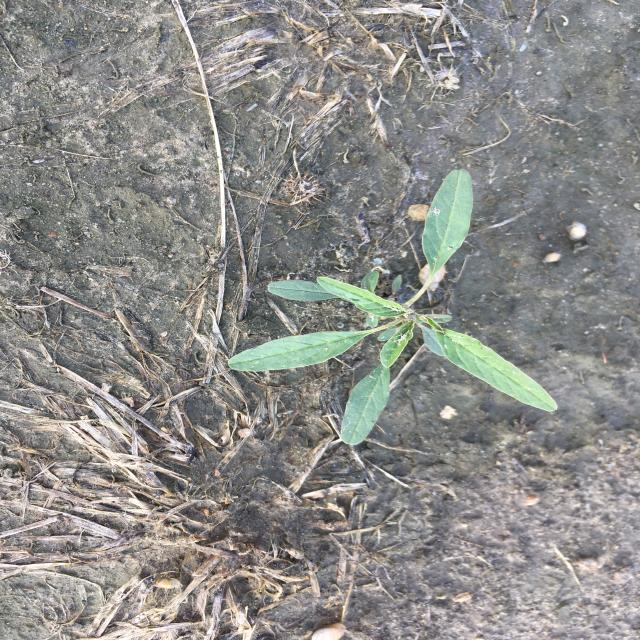Waterhemp: (226, 168, 560, 446)
